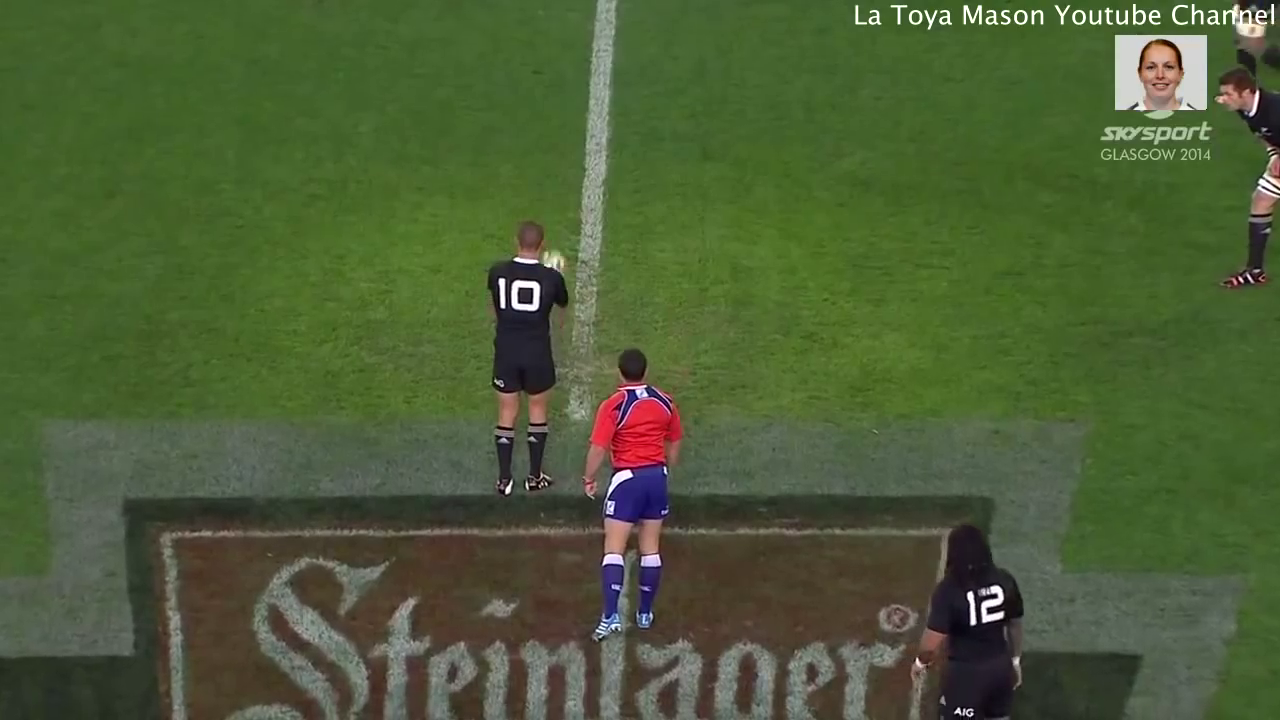ball: (537, 242, 568, 279)
player: (579, 348, 681, 647), (481, 216, 571, 528), (909, 520, 1031, 720), (1214, 63, 1280, 302)
